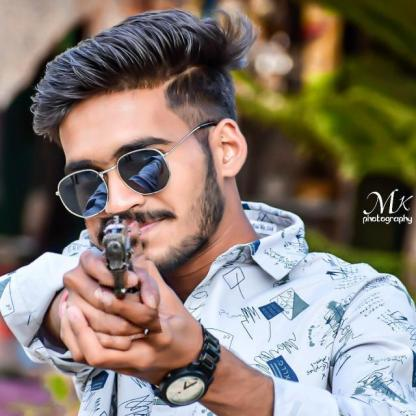handgun: (91, 211, 156, 342)
